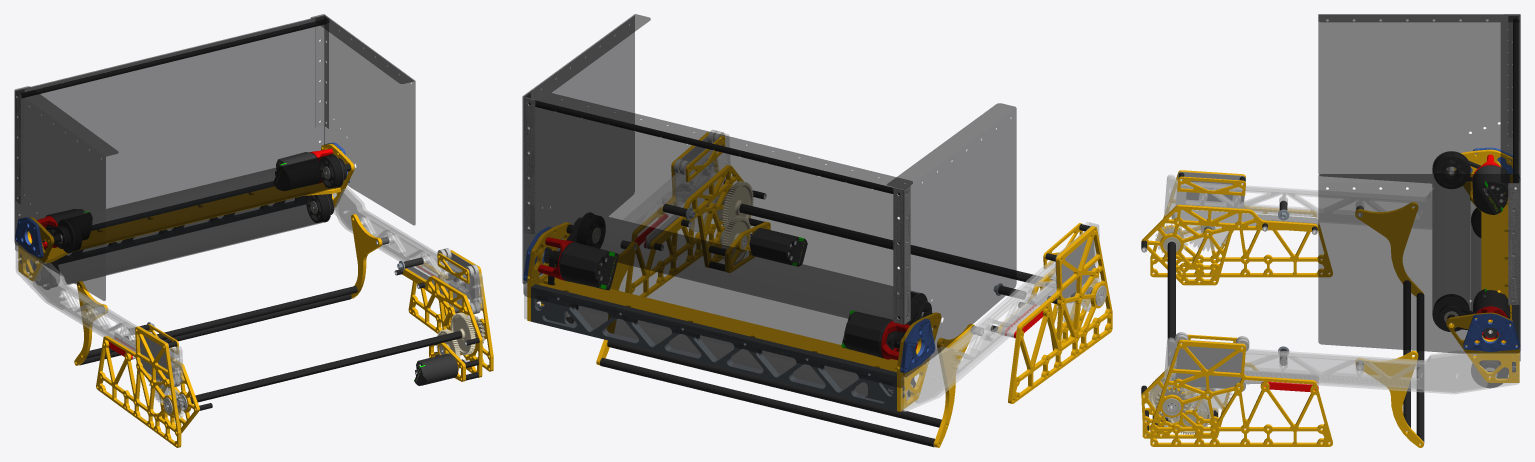
3 views of the same model, side by side, from view 1: azimuth 30°, elevation 25°; view 2: azimuth 150°, elevation 25°; view 3: azimuth 270°, elevation 25° (orthographic). The views are drawn at different scales.
Parts seen in each view (by area): view 1: 3354-2026-CS2-2000-PC 1.5mm N1-1, 3354-2026-CS2-2000-Roller-PC-1 (×2), Part 24, 3354-2026-CS2-2000-PC 1.5mm N1-2, 3354-2026-CS2-2000-PC-6mm-2 (×2), 3354-2026-CS2-2000-AL7075-0.25-4 (×2), 3354-2026-CS2-2000-PC-6mm-1 (×2), Part 25, 3354-2026-CS2-2000-PC-6mm-3 (×2), 3354-2026-CS2-2000-AL7075-0.25-1 (×3), 1/2" Round Shaft (22.77") (×2), 3354-2026-CS2-2000-AL7075-0.25-2 (×2) (+14 smaller); view 2: 3354-2026-CS2-2000-PC 1.5mm N1-1, Part 24, 3354-2026-CS2-2000-PC 1.5mm N1-2, 3354-2026-CS2-2000-Roller-PC-1 (×2), 3354-2026-CS2-2000-AL7075-0.25-2 (×2), Part 25, 3354-2026-CS2-2000-AL7075-0.25-4 (×2), 1/2" Round Shaft (22.77") (×2), 3354-2026-CS2-2000-AL7075-0.25-1 (×3), 3354-2026-CS2-2000-PC-6mm-1, Kraken X60 Brushless Motor (×2), 3354-2026-CS2-2000-AL7075-0.25-3 (×2) (+15 smaller); view 3: 3354-2026-CS2-2000-PC 1.5mm N1-2, Part 24, 3354-2026-CS2-2000-PC-6mm-1 (×2), 3354-2026-CS2-2000-AL7075-0.25-1 (×3), 3354-2026-CS2-2000-PC-6mm-2 (×2), 3354-2026-CS2-2000-Roller-PC-1 (×2), 3354-2026-CS2-2000-AL7075-0.25-4 (×2), 3354-2026-CS2-2000-PC-6mm-3 (×2), Part 25, 3354-2026-CS2-2000-PC 1.5mm N1-1, HTD5 24 Tooth Custom Pulley (×3), Kraken X60 Brushless Motor (×2) (+17 smaller).
Boxes of the visible parts, x1,y1,x2,y2 form: 3354-2026-CS2-2000-PC 1.5mm N1-1: (15,15,331,250); 3354-2026-CS2-2000-Roller-PC-1 (×2): (51,154,342,284); Part 24: (14,86,118,300); 3354-2026-CS2-2000-PC 1.5mm N1-2: (311,14,415,225); 3354-2026-CS2-2000-PC-6mm-2 (×2): (33,188,481,383); 3354-2026-CS2-2000-AL7075-0.25-4 (×2): (21,182,340,433); 3354-2026-CS2-2000-PC-6mm-1 (×2): (15,186,483,384); Part 25: (96,326,181,447); 3354-2026-CS2-2000-PC-6mm-3 (×2): (49,191,478,382); 3354-2026-CS2-2000-AL7075-0.25-1 (×3): (18,143,493,371); 1/2" Round Shaft (22.77") (×2): (79,286,357,365); 3354-2026-CS2-2000-AL7075-0.25-2 (×2): (69,181,482,377); 3354-2026-CS2-2000-PC 1.5mm N1-1: (523,89,912,387); Part 24: (887,103,1016,377); 3354-2026-CS2-2000-PC 1.5mm N1-2: (522,14,650,283); 3354-2026-CS2-2000-Roller-PC-1 (×2): (566,213,918,395); 3354-2026-CS2-2000-AL7075-0.25-2 (×2): (531,165,896,410); Part 25: (1008,226,1112,403); 3354-2026-CS2-2000-AL7075-0.25-4 (×2): (538,267,1099,380); 1/2" Round Shaft (22.77") (×2): (600,340,941,447); 3354-2026-CS2-2000-AL7075-0.25-1 (×3): (527,132,941,411); 3354-2026-CS2-2000-PC-6mm-1: (900,223,1099,411); Kraken X60 Brushless Motor (×2): (559,242,897,358); 3354-2026-CS2-2000-AL7075-0.25-3 (×2): (533,222,904,401); 3354-2026-CS2-2000-PC 1.5mm N1-2: (1318,174,1520,353); Part 24: (1318,14,1520,183); 3354-2026-CS2-2000-PC-6mm-1 (×2): (1164,174,1519,394); 3354-2026-CS2-2000-AL7075-0.25-1 (×3): (1150,149,1519,446); 3354-2026-CS2-2000-PC-6mm-2 (×2): (1164,176,1487,392); 3354-2026-CS2-2000-Roller-PC-1 (×2): (1432,152,1480,355); 3354-2026-CS2-2000-AL7075-0.25-4 (×2): (1141,191,1511,357); 3354-2026-CS2-2000-PC-6mm-3 (×2): (1164,177,1473,388); Part 25: (1150,170,1332,277); 3354-2026-CS2-2000-PC 1.5mm N1-1: (1500,15,1520,360); HTD5 24 Tooth Custom Pulley (×3): (1432,151,1508,388); Kraken X60 Brushless Motor (×2): (1472,165,1510,333).
Size of the model in its own units: 0.6763 by 0.5047 by 0.6298.
